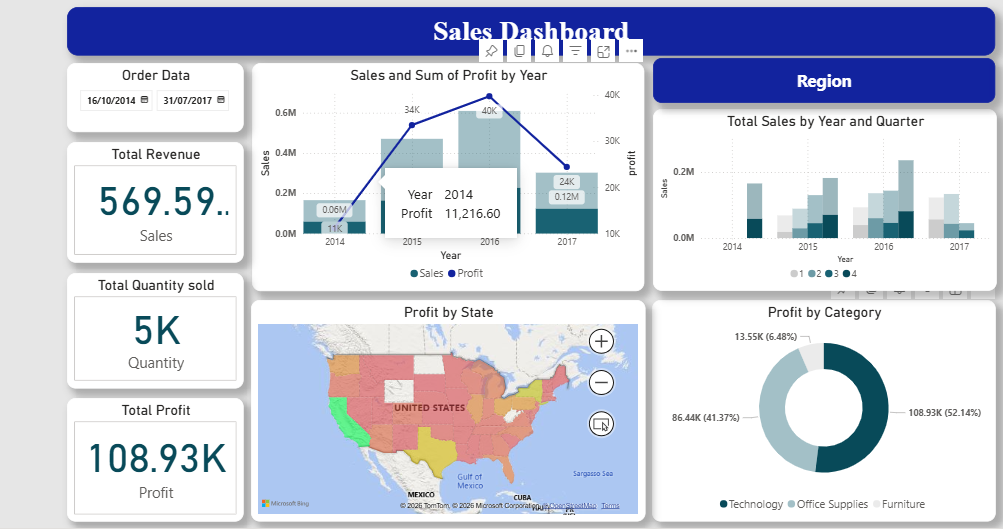

The page's visual inventory and layout, read from the dashboard file:
{"tool":"powerbi","page":{"name":"Sales","canvas":[1280,720],"ordinal":0},"visuals":[{"type":"textbox","box":[7.3,11.7,1261.5,65.9],"z":0},{"type":"lineClusteredColumnComboChart","title":"Sales and Sum of Profit by Year","fields":{"Category":["Orders.Year"],"Y":["Sum(Orders.Sales)"],"Y2":["Sum(Orders.Profit)"]},"box":[257.6,87.8,532.7,310.2],"z":1000},{"type":"donutChart","title":"Profit by Category","fields":{"Category":["Orders.Category"],"Y":["Sum(Orders.Profit)"]},"box":[802,409.8,466.8,301.5],"z":2000},{"type":"slicer","title":"Order Data","fields":{"Values":["Orders.Order Date"]},"box":[7.3,87.8,240,93.7],"z":3000},{"type":"cardVisual","title":"Total Revenue","fields":{"Data":["Sum(Orders.Sales)"]},"box":[7.3,196.1,240,163.9],"z":4000},{"type":"cardVisual","title":"Total Quantity sold","fields":{"Data":["Sum(Orders.Quantity)"]},"box":[7.3,373.2,240,156.6],"z":5000},{"type":"cardVisual","title":"Total Profit","fields":{"Data":["Sum(Orders.Profit)"]},"box":[7.3,542.9,240,168.3],"z":6000},{"type":"clusteredColumnChart","title":"Total Sales by Year and Quarter","fields":{"Category":["Orders.Year"],"Y":["Sum(Orders.Sales)"],"Series":["Orders.Quarter"]},"box":[803.4,150.7,466.8,247.3],"z":7000},{"type":"filledMap","fields":{"Category":["Orders.State"]},"box":[256.1,409.8,535.6,301.5],"z":8000},{"type":"actionButton","box":[803.4,82,465.4,61.5],"z":9000}]}

Visuals, with their boxes in screenshot pixels (x1, y1, x2, y2):
textbox: <box>73,6,989,54</box>
"Sales and Sum of Profit by Year" lineClusteredColumnComboChart: <box>255,61,642,286</box>
"Profit by Category" donutChart: <box>650,295,989,514</box>
"Order Data" slicer: <box>73,61,248,129</box>
"Total Revenue" cardVisual: <box>73,140,248,259</box>
"Total Quantity sold" cardVisual: <box>73,268,248,382</box>
"Total Profit" cardVisual: <box>73,392,248,514</box>
"Total Sales by Year and Quarter" clusteredColumnChart: <box>651,107,990,286</box>
filledMap - Orders.State: <box>254,295,643,514</box>
actionButton: <box>651,57,989,102</box>
